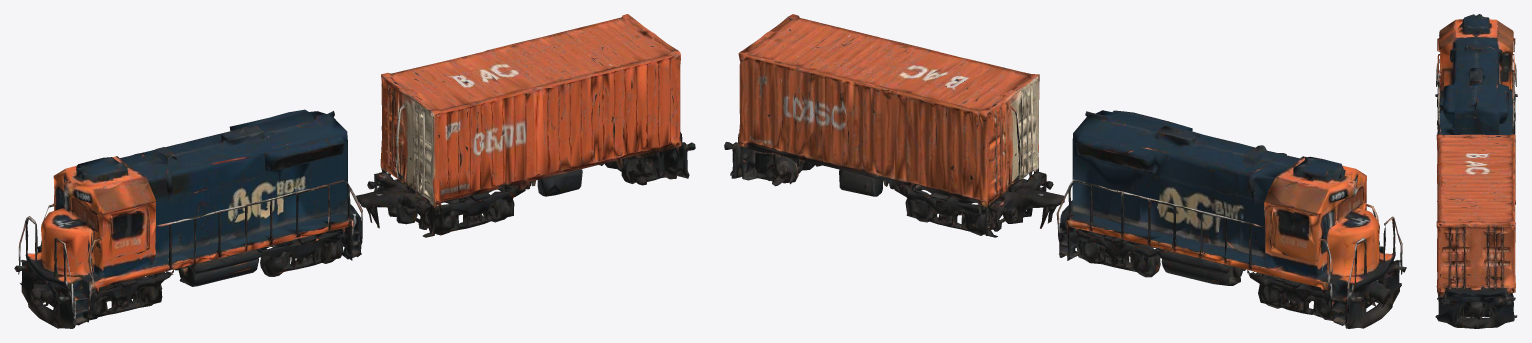
File: kereta.glb
The picture shows the model from 3 angles, left to right: view 1: azimuth 30°, elevation 25°; view 2: azimuth 150°, elevation 25°; view 3: azimuth 270°, elevation 25°; orthographic projection. The views are drawn at different scales.
Size of the model in its own units: 1.9 by 0.4004 by 0.2861.
1 material, 1 textured.
